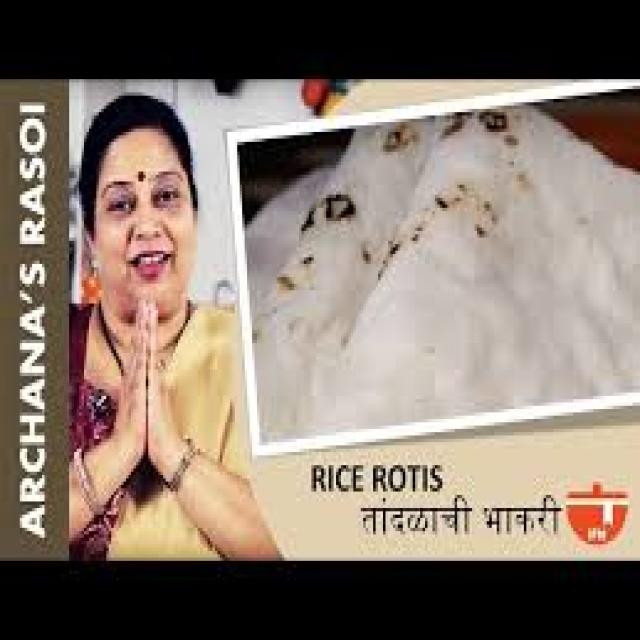ROTI: (245, 99, 638, 445)
